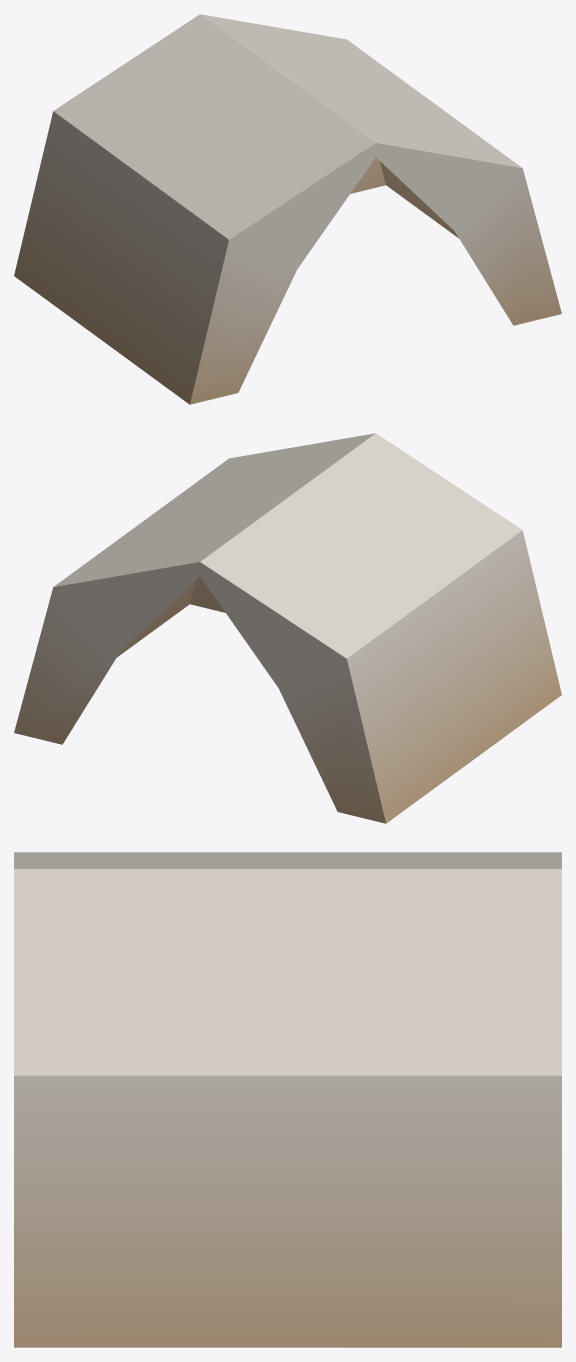
Rendered from Tents-SG20.fbx.
The picture shows the model from 3 angles, top to bottom: view 1: azimuth 30°, elevation 25°; view 2: azimuth 150°, elevation 25°; view 3: azimuth 270°, elevation 25°; orthographic projection. The views are drawn at different scales.
Visible parts, largest first — view 1: Tents-SG20; view 2: Tents-SG20; view 3: Tents-SG20.
Boxes of the visible parts, left/top/right/bottom form: Tents-SG20: left=14, top=14, right=561, bottom=404; Tents-SG20: left=14, top=433, right=561, bottom=823; Tents-SG20: left=14, top=852, right=561, bottom=1347.
Size of the model in its own units: 4.08 by 2.27 by 3.34.
